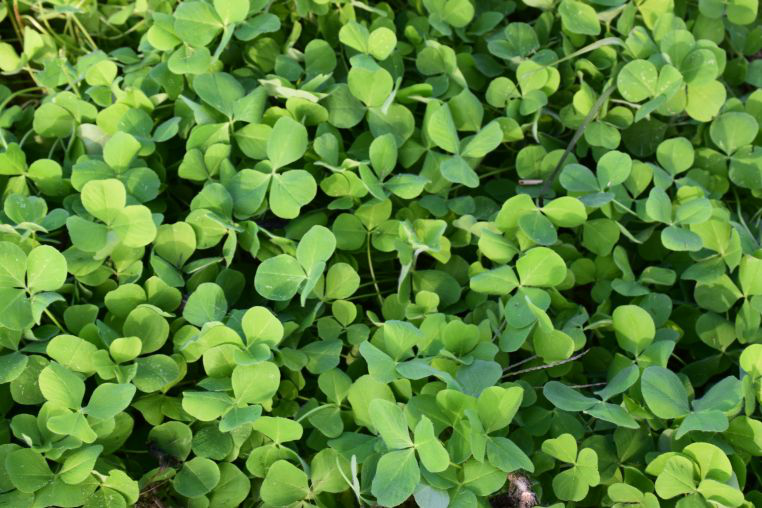clover: (7, 8, 748, 496)
